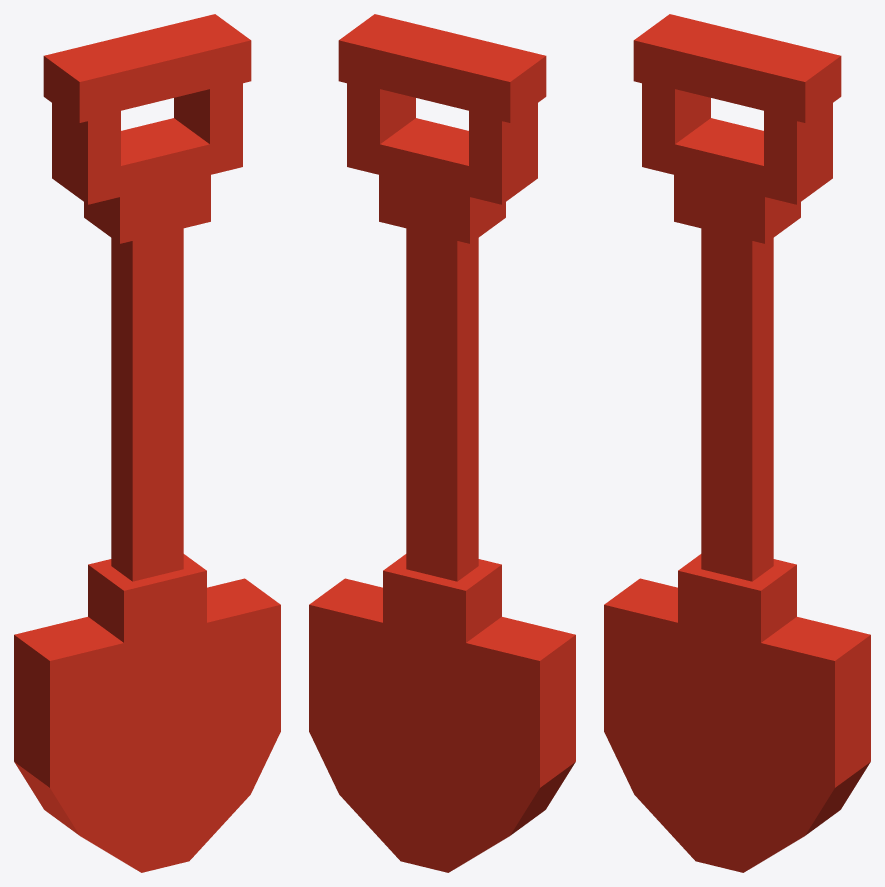
Rendered from Icon_Shovel.fbx.
3 renders of one model, left to right at view 1: azimuth 30°, elevation 25°; view 2: azimuth 150°, elevation 25°; view 3: azimuth 330°, elevation 25°, orthographic.
Parts seen in each view (by area): view 1: Icon_Shovel; view 2: Icon_Shovel; view 3: Icon_Shovel.
Boxes of the visible parts, <box> form: Icon_Shovel: <box>14,14,280,872</box>; Icon_Shovel: <box>309,14,575,872</box>; Icon_Shovel: <box>604,14,870,872</box>.
Bounding box in the file's own units: 23.81 × 79.42 × 6.42.
